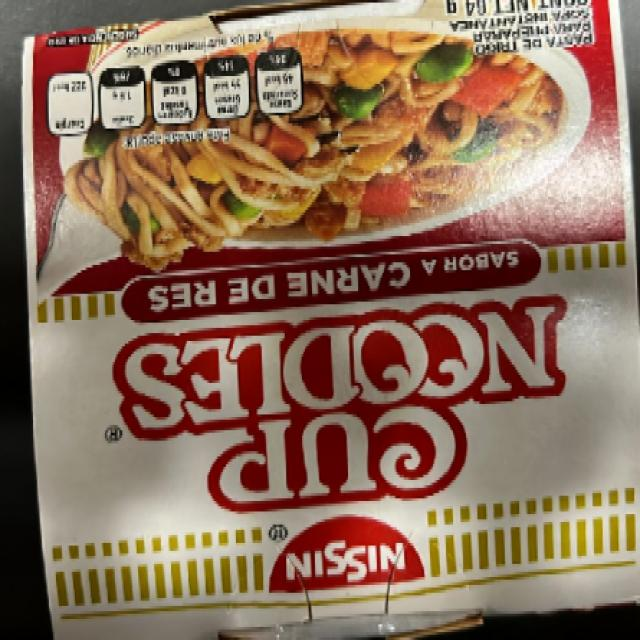nissinRes: (32, 39, 624, 593)
